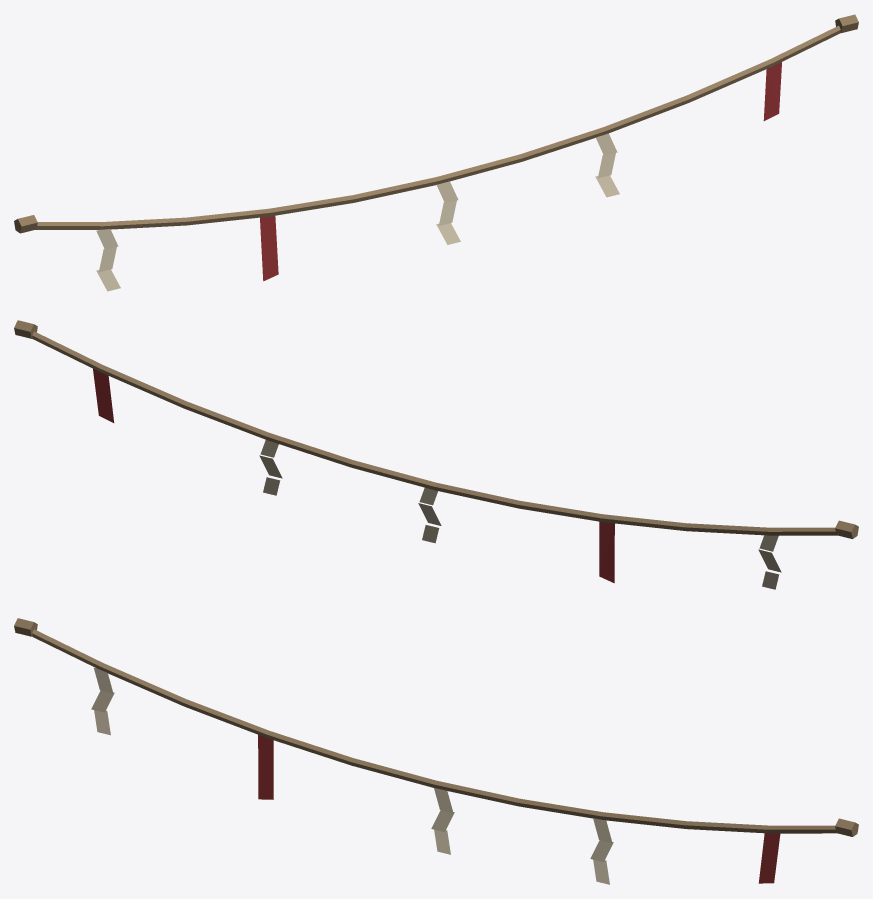
The model's file is tl_env_shrine_rope_v01.glb.
3 renders of one model, top to bottom at view 1: azimuth 30°, elevation 25°; view 2: azimuth 150°, elevation 25°; view 3: azimuth 330°, elevation 25°, orthographic.
Visible parts, largest first — view 1: tl_env_shrine_rope_v01; view 2: tl_env_shrine_rope_v01; view 3: tl_env_shrine_rope_v01.
Part boxes in pixels (x1,y1,x2,y2): tl_env_shrine_rope_v01: (14,14,858,291); tl_env_shrine_rope_v01: (14,320,858,589); tl_env_shrine_rope_v01: (14,618,858,884).
Bounding box in the file's own units: 4.62 × 0.665 × 0.0841.
